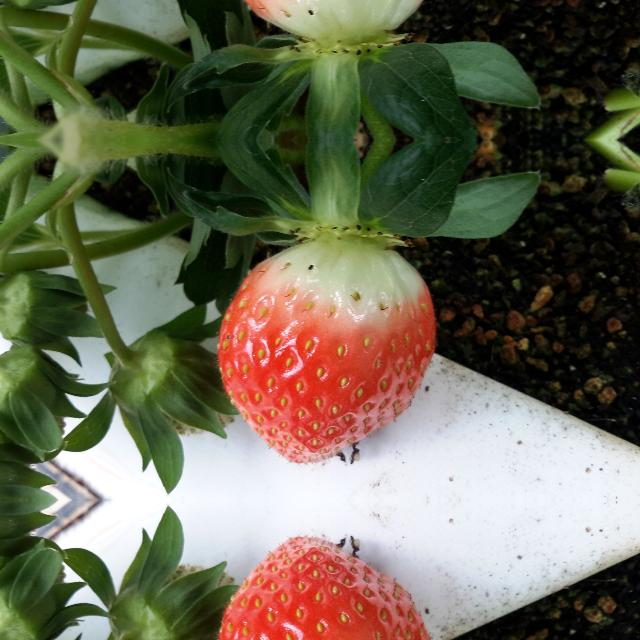Health_100: (218, 237, 437, 467), (217, 533, 436, 640)
